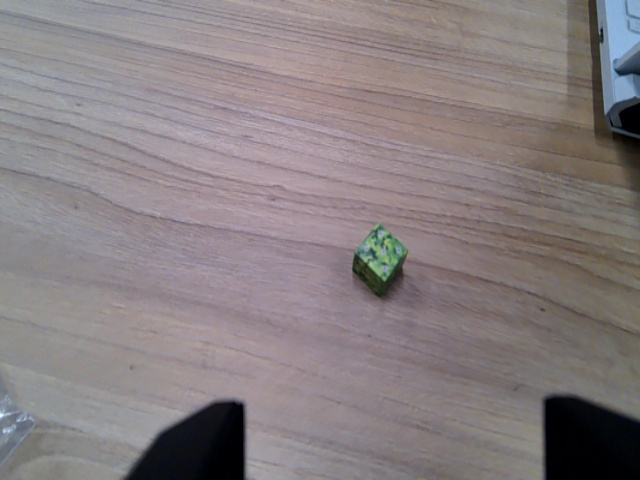grass: (351, 223, 410, 297)
